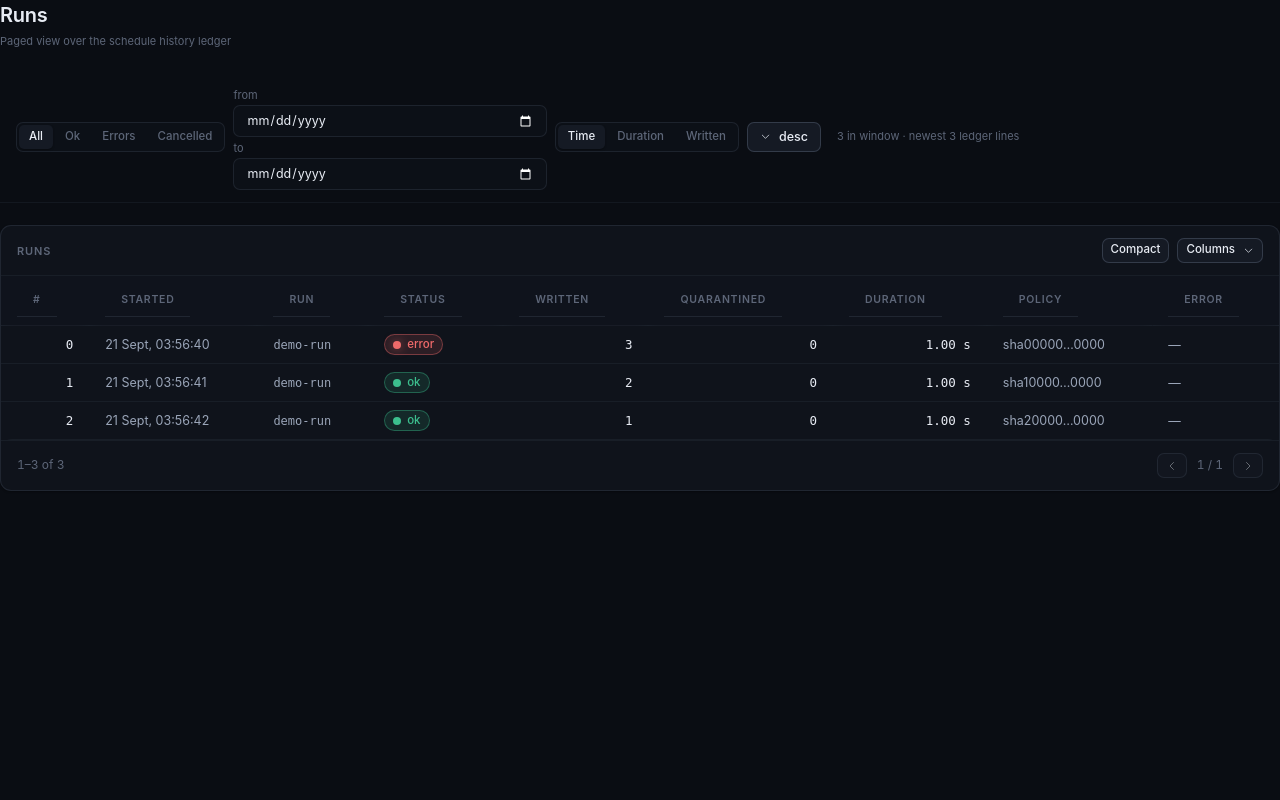
Test: dialogs (§36, §33) › drawer traps focus and Escape closes it
This screenshot has width=1280, height=800.
Click the row that starts with "21 Sept, 03:56:40" at (640, 345), box [1,326,1279,364]
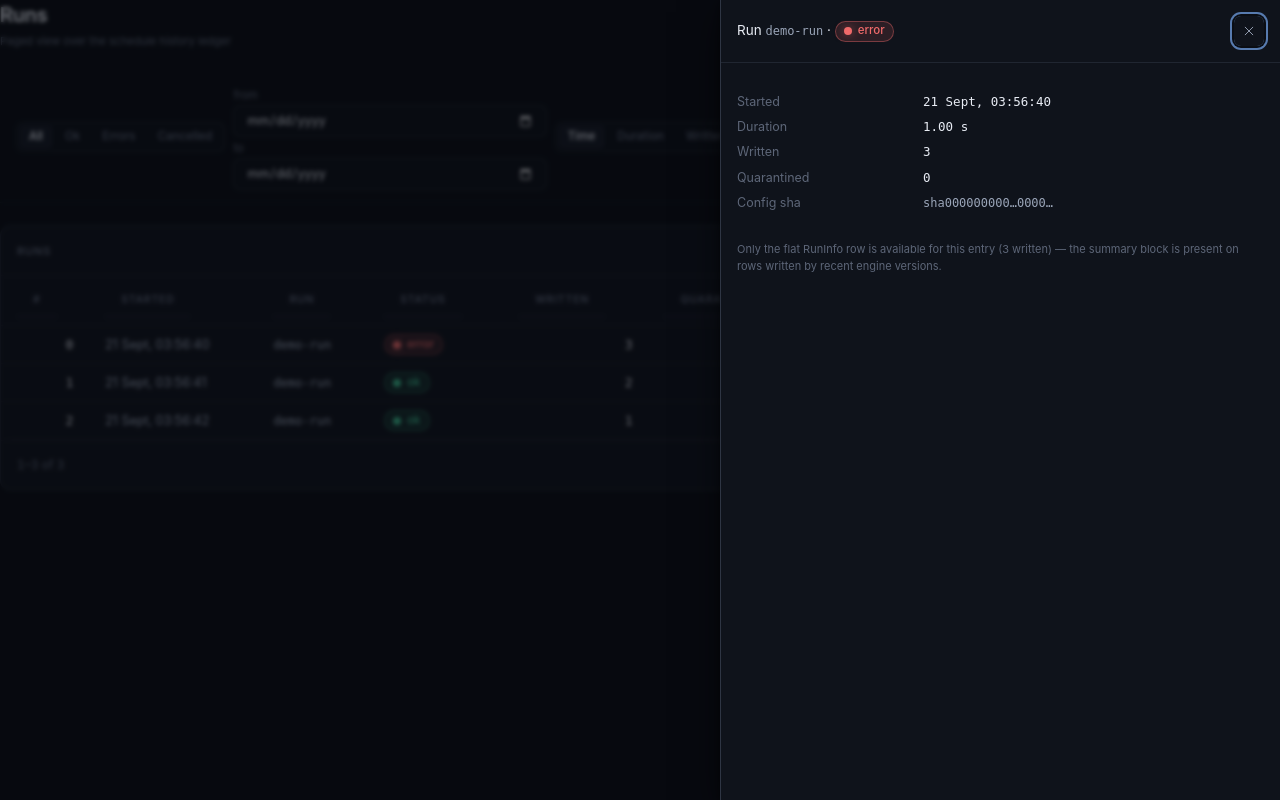
Press Escape in the dialog, box [720,0,1279,799]
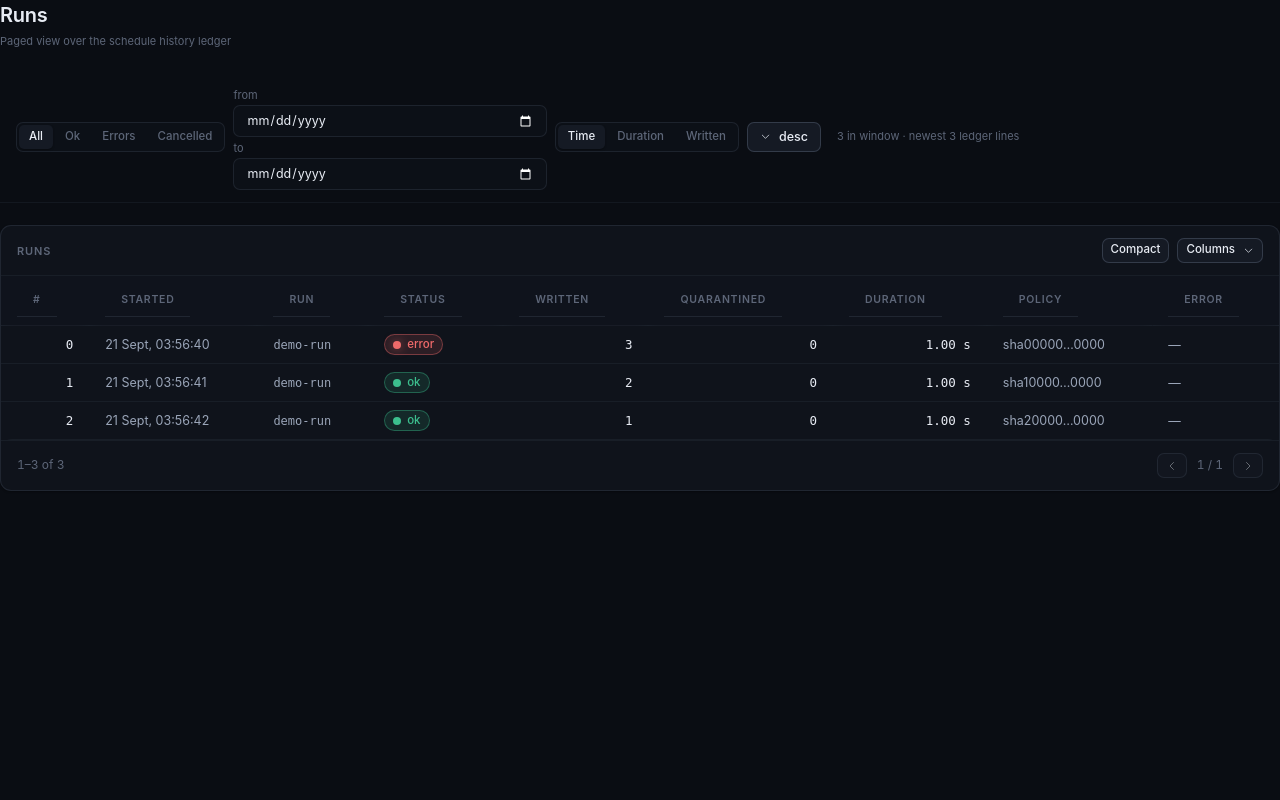
Expected: the dialog is gone
